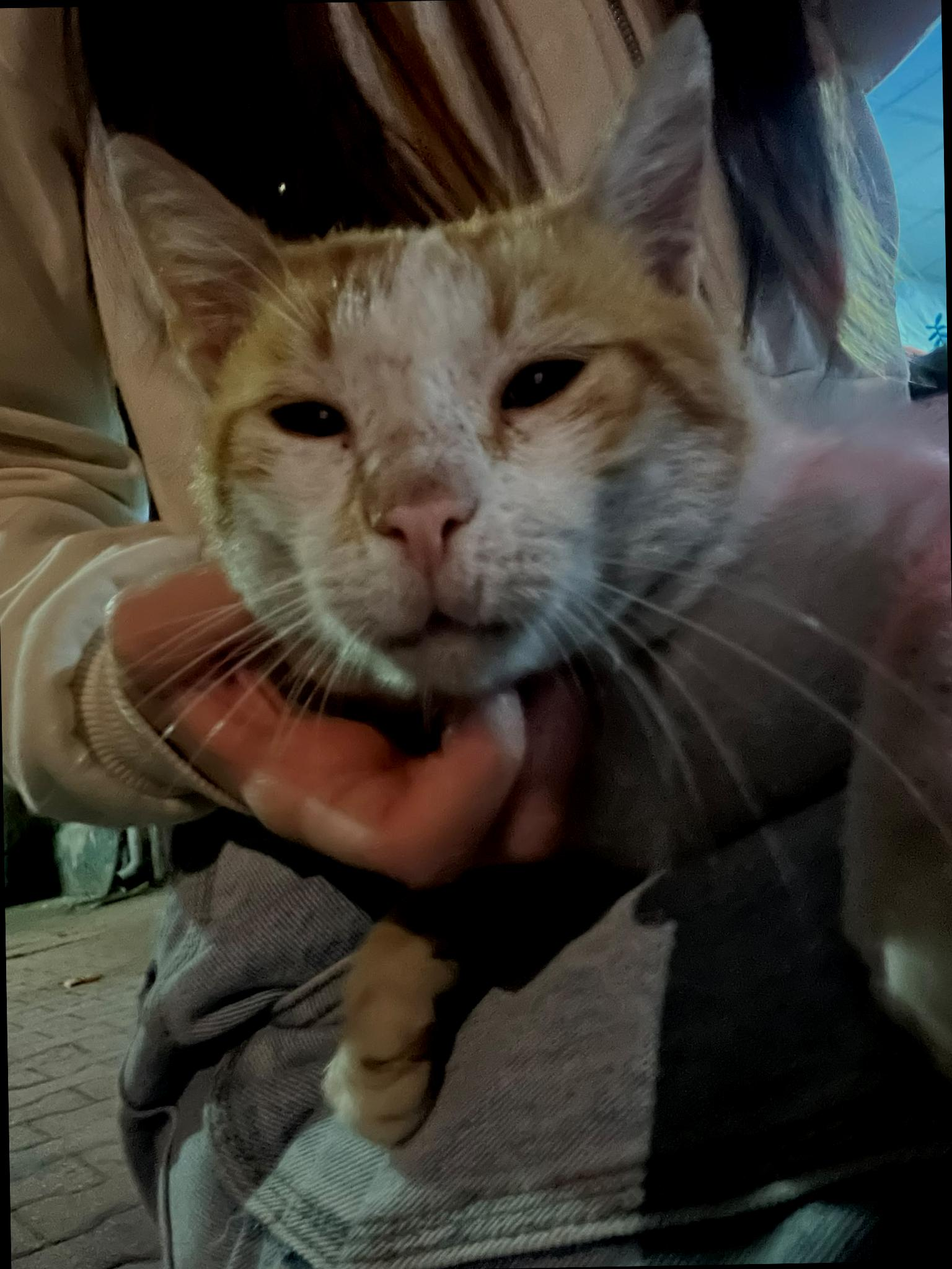macka: (89, 2, 952, 1150)
